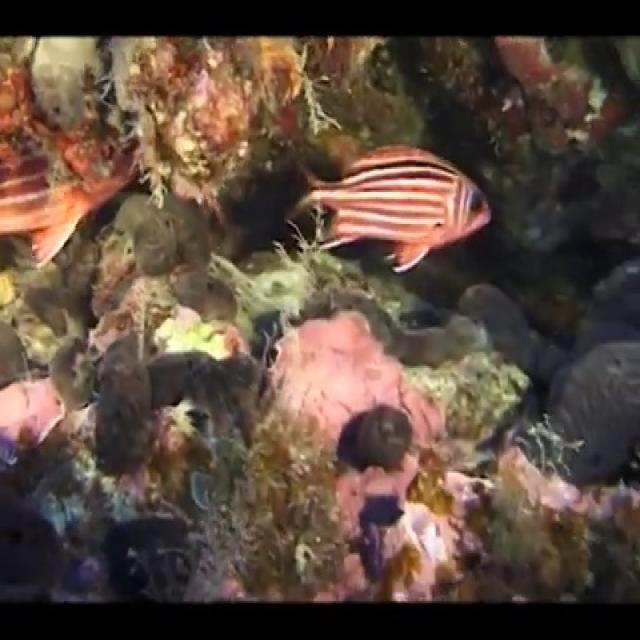Asker Baligi: (290, 140, 493, 276)
